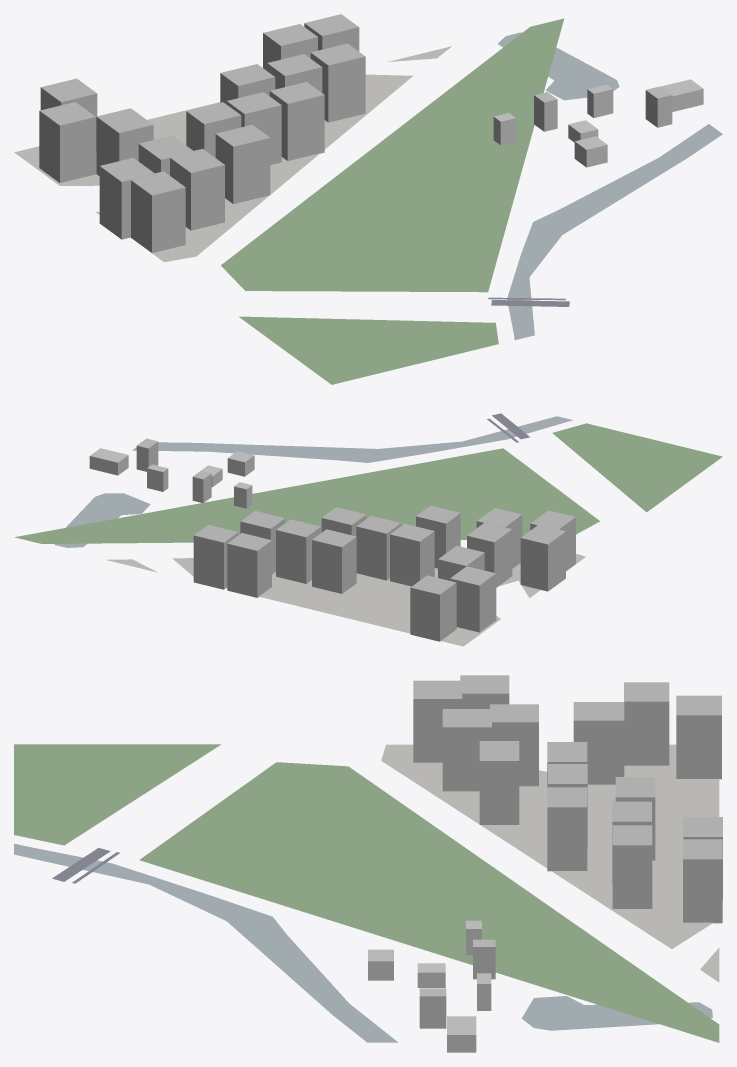
The model's file is 112_117_mid.glb.
The picture shows the model from 3 angles, top to bottom: view 1: azimuth 30°, elevation 25°; view 2: azimuth 150°, elevation 25°; view 3: azimuth 270°, elevation 25°; orthographic projection. The views are drawn at different scales.
Size of the model in its own units: 523 by 50.87 by 502.
